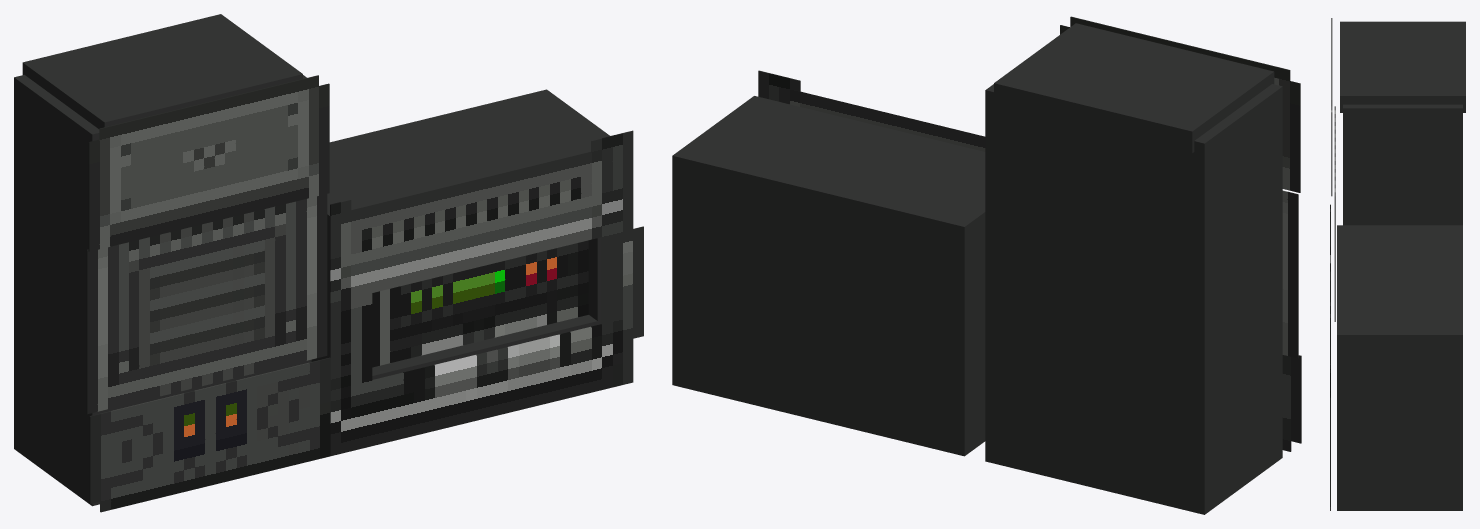
Rendered from CMU3DRMCMachinePropBig6.glb.
3 renders of one model, left to right at view 1: azimuth 30°, elevation 25°; view 2: azimuth 150°, elevation 25°; view 3: azimuth 270°, elevation 25°, orthographic. The views are drawn at different scales.
Parts seen in each view (by area): view 1: rack opening frame and ports, left recessed grille, left service cabinet, left top casting, left status controls, left raised cap, rack dark recess and status row, rack top vent, rack rear wall, rack right jamb, rack base ports, rack left jamb; view 2: left service cabinet, rack rear wall, rack top vent, left raised cap, rack base ports, rack left jamb, rack right jamb, rack opening frame and ports, left top casting, left recessed grille, left status controls; view 3: rack right jamb, left service cabinet, rack top vent, left raised cap, rack rear wall, rack left jamb, left recessed grille, left top casting, rack opening frame and ports.
Boxes of the visible parts, x1,y1,x2,y2 form: rack opening frame and ports: (330,130,643,455); left recessed grille: (86,194,327,414); left service cabinet: (14,75,311,506); left top casting: (88,75,329,251); left status controls: (89,357,330,512); left raised cap: (22,14,302,128); rack dark recess and status row: (372,240,588,367); rack top vent: (329,97,589,207); rack rear wall: (329,89,582,177); rack right jamb: (516,90,609,324); rack base ports: (372,315,597,379); rack left jamb: (311,185,359,361); left service cabinet: (985,84,1282,514); rack rear wall: (672,129,985,440); rack top vent: (703,103,985,295); left raised cap: (994,23,1274,153); rack base ports: (703,327,933,448); rack left jamb: (933,181,985,456); rack right jamb: (672,96,784,392); rack opening frame and ports: (758,70,985,151); left top casting: (1060,16,1300,192); left recessed grille: (1282,190,1298,358); left status controls: (1282,355,1301,451); rack right jamb: (1337,323,1462,510); left service cabinet: (1343,104,1462,225); rack top vent: (1337,237,1462,322); left raised cap: (1340,21,1465,112); rack rear wall: (1406,225,1462,502); rack left jamb: (1337,225,1462,236); left recessed grille: (1334,106,1335,321); left top casting: (1331,18,1332,196); rack opening frame and ports: (1330,204,1330,510).
Size of what is drawn, in the model's own units: 1.66 by 1.09 by 0.459.
Materials: 6 (5 with a texture image).
